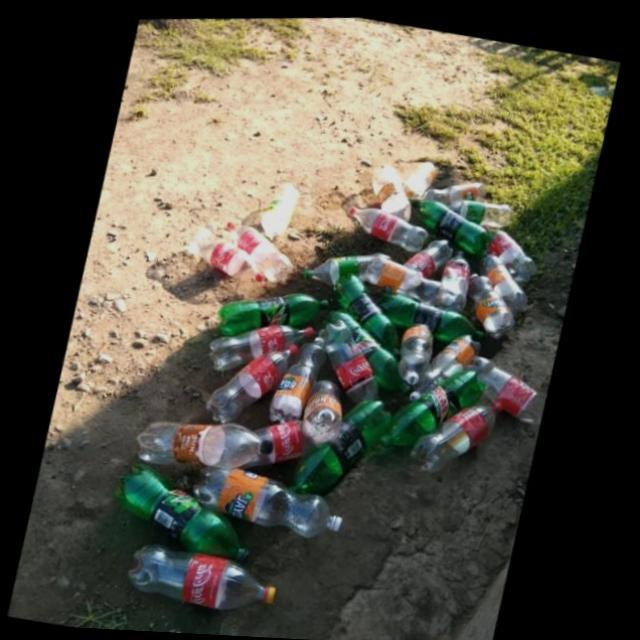chai_nhua: (115, 458, 251, 559), (293, 397, 395, 491), (380, 368, 488, 446), (336, 271, 399, 359), (379, 292, 484, 341), (219, 290, 330, 332), (412, 198, 493, 254)
chai_nhua_pet: (192, 461, 344, 535), (128, 540, 278, 606), (206, 341, 300, 419), (138, 416, 276, 465), (411, 402, 504, 472), (269, 334, 329, 420), (322, 316, 380, 400), (410, 334, 481, 399), (364, 255, 456, 305), (211, 320, 315, 364), (478, 356, 545, 423), (187, 223, 266, 278), (227, 218, 295, 280), (349, 203, 430, 251), (478, 253, 528, 314), (470, 272, 516, 338), (305, 251, 392, 284), (303, 377, 344, 443), (488, 230, 538, 282), (398, 322, 435, 390), (373, 163, 413, 220), (449, 197, 517, 228), (404, 238, 454, 277), (441, 249, 472, 310), (423, 181, 487, 204)
